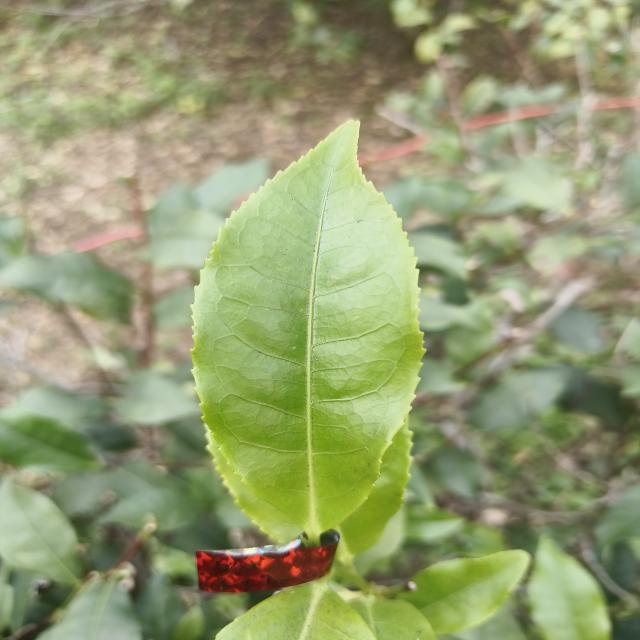Leaf: (192, 121, 422, 534), (398, 550, 530, 634), (216, 578, 374, 640), (0, 252, 133, 323), (0, 476, 83, 584), (528, 536, 611, 640), (38, 576, 141, 640), (471, 368, 568, 429), (0, 415, 97, 472), (116, 370, 200, 425), (99, 487, 197, 530), (503, 157, 571, 212)
